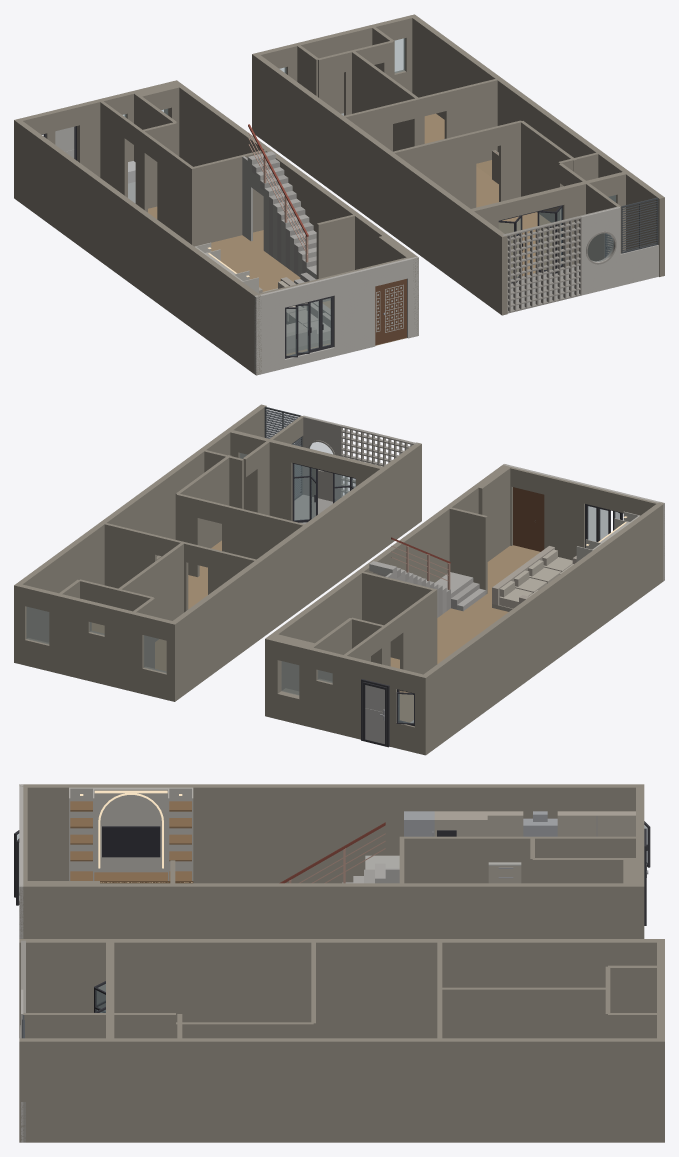
File: house_web.glb
3 views of the same model, one above another, from view 1: azimuth 30°, elevation 25°; view 2: azimuth 150°, elevation 25°; view 3: azimuth 270°, elevation 25° (orthographic). The views are drawn at different scales.
Parts seen in each view (by area): view 1: PartyL.001, PartyL, PartyR.001, PartyR, Dining_Kitchen_202, MB_Back, Front.003, Leisure_Back.002, B1_B2, Kitchen_Bedroom, MB_Strip.001, Front (+36 smaller); view 2: PartyL.001, PartyL, PartyR.001, PartyR, Back.006, Back.005, Front.003_inner, MB_Back, Dining_Kitchen_202, Stair_End_Wall, B1_B2, Leisure_Back.002 (+43 smaller); view 3: PartyR.001, PartyL.001, PartyR, PartyL, B1_B2, TV_Center_panel, Kitchen_Bedroom, Bedroom_NotchSide, MB_Strip.001, Toilet_Side, Kit_wall_B, TV_Screen (+17 smaller).
Part boxes in pixels (x1,y1,x2,y2): PartyL.001: (252,53,507,315); PartyL: (14,119,261,374); PartyR.001: (412,16,664,276); PartyR: (176,80,418,335); Dining_Kitchen_202: (190,149,266,246); MB_Back: (390,132,476,208); Front.003: (334,267,375,356); Leisure_Back.002: (444,78,499,163); B1_B2: (351,51,418,151); Kitchen_Bedroom: (157,143,192,242); MB_Strip.001: (521,121,576,222); Front: (254,289,284,375); PartyL.001: (169,442,421,700); PartyL: (420,502,664,753); PartyR.001: (14,404,266,663); PartyR: (265,464,508,716); Back.006: (49,592,91,680); Back.005: (104,605,145,693); Front.003_inner: (544,475,584,560); MB_Back: (222,504,306,559); Dining_Kitchen_202: (360,571,437,664); Stair_End_Wall: (449,507,487,593); B1_B2: (118,542,184,641); Leisure_Back.002: (102,522,156,588); PartyR.001: (19,1038,664,1142); PartyL.001: (19,939,657,1038); PartyR: (19,883,644,938); PartyL: (19,784,641,883); B1_B2: (440,987,607,1038); TV_Center_panel: (94,787,167,872); Kitchen_Bedroom: (402,836,488,883); Bedroom_NotchSide: (532,858,635,883); MB_Strip.001: (176,1022,313,1038); Toilet_Side: (608,965,660,1012); Kit_wall_B: (557,811,635,836); TV_Screen: (102,826,160,857).
Bounding box in the file's own units: 14.96 × 4.03 × 15.99.
